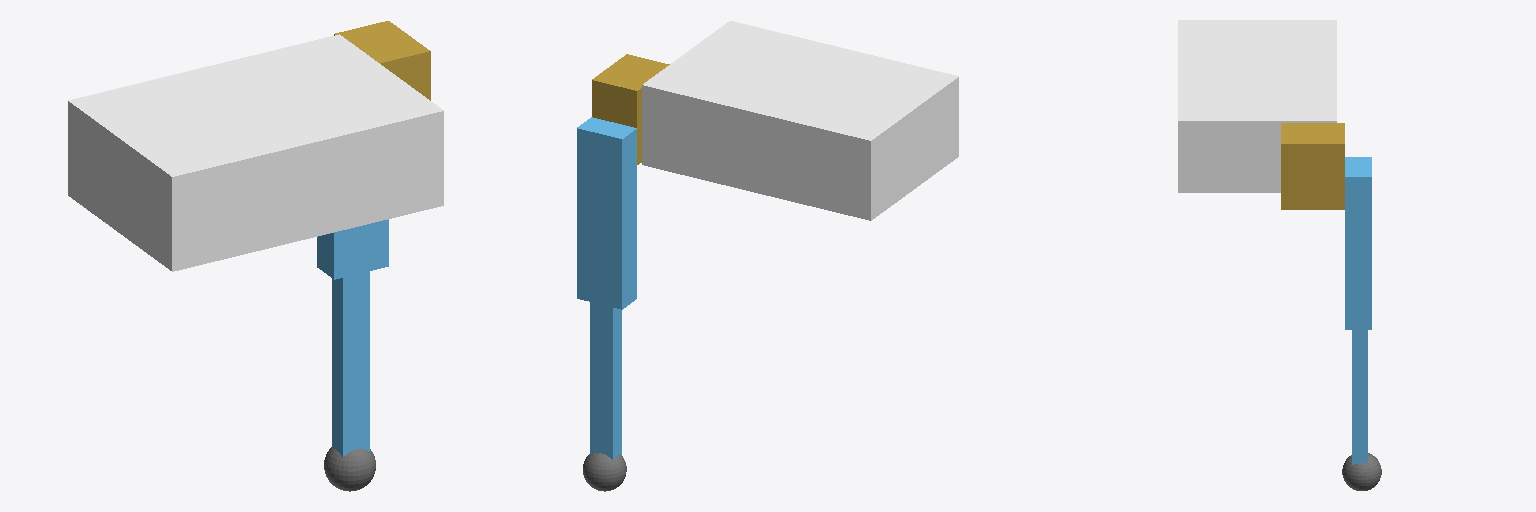
URDF robot description (leg):
<?xml version="1.0" ?>


<robot name="leg" xmlns:xacro="http://www.ros.org/wiki/xacro">


    <gazebo>
        <plugin filename="libgazebo_ros_control.so" name="gazebo_ros_control">
            <robotNamespace>/leg</robotNamespace>
            <robotSimType>
                gazebo_ros_control/DefaultRobotHWSim
            </robotSimType>
        </plugin>
    </gazebo>


    <material name="black">
        <color rgba="0.0 0.0 0.0 1.0"/>
    </material>
    <material name="blue">
        <color rgba="0.0 0.0 0.8 1.0"/>
    </material>
    <material name="green">
        <color rgba="0.0 0.8 0.0 1.0"/>
    </material>
    <material name="grey">
        <color rgba="0.2 0.2 0.2 1.0"/>
    </material>
    <material name="silver">
        <color rgba="0.913725490196 0.913725490196 0.847058823529 1.0"/>
    </material>
    <material name="orange">
        <color rgba="1.0 0.423529411765 0.0392156862745 1.0"/>
    </material>
    <material name="brown">
        <color rgba="0.870588235294 0.811764705882 0.764705882353 1.0"/>
    </material>
    <material name="white_gray">
        <color rgba="0.823529411765 0.823529411765 0.823529411765 1.0"/>
    </material>
    <material name="gold">
        <color rgba="0.811764705882 0.678431372549 0.301960784314 1.0"/>
    </material>
    <material name="white_blue">
        <color rgba="0.462745098039 0.8 0.992156862745 1.0"/>
    </material>
    <material name="white_black">
        <color rgba="0.494117647059 0.494117647059 0.494117647059 1.0"/>
    </material>
    <material name="red">
        <color rgba="0.8 0.0 0.0 1.0"/>
    </material>
    <material name="white">
        <color rgba="1.0 1.0 1.0 1.0"/>
    </material>

    <gazebo refrence="trunk">
        <mu1>0.9</mu1>
        <mu2>0.9</mu2>
        <material>Gazebo/DarkGrey</material>
    </gazebo>

    <gazebo refrence="jump">
        <mu1>0.9</mu1>
        <mu2>0.9</mu2>
        <material>Gazebo/DarkGrey</material>
    </gazebo>

    <gazebo reference="hip">
        <mu1>0.9</mu1>
        <mu2>0.9</mu2>
        <material>Gazebo/Orange</material>
  </gazebo>
  <gazebo reference="thigh">
        <mu1>0.9</mu1>
        <mu2>0.9</mu2>
        <self_collide>1</self_collide>
        <material>Gazebo/White</material>
        <kp value="1000000.0"/>
        <kd value="1.0"/>
  </gazebo>
  <gazebo reference="calf">
        <mu1>0.9</mu1>
        <mu2>0.9</mu2>
        <self_collide>1</self_collide>
      <material>Gazebo/DarkGray</material>
  </gazebo>
  <gazebo reference="foot">
        <mu1>0.9</mu1>
        <mu2>0.9</mu2>
        <self_collide>1</self_collide>
        <material>Gazebo/DarkGray</material>
        <kp value="1000000.0"/>
        <kd value="1.0"/>
  </gazebo>

    <link name="world"/>
    <gazebo reference="world">
        <static>true</static>
    </gazebo>

    <link name="trunk">
        <visual>
        <origin rpy="0 0 0" xyz="0 0 0.05"/>
        <geometry>
            <box size="0.3 0.2 0.1"/>
        </geometry>
        <material name="white"/>
        </visual>
        <collision>
            <origin rpy="0 0 0" xyz="0 0 0.75"/>
            <geometry>
                <box size="0.3 0.2 0.1"/>
            </geometry>
        </collision>
        <inertial>
            <origin rpy="0 0 0" xyz="0 0 0.05"/>
            <mass value="100"/>
            <inertia ixx="0.011253" ixy="0" ixz="0.0" iyy="0.036203" iyz="-0.0" izz="0.042673"/>
            </inertial>
        </link>

    <joint name="trunk_to_world" type="fixed">
        <origin rpy="0 0 0" xyz="0 0 0"/>
        <parent link="world"/>
        <child link="trunk"/>
    </joint>

<!--    <joint name="jumper" type="prismatic">-->
<!--        <parent link="trunk"/>-->
<!--        <axis xyz="0 0 1"/>-->
<!--        <child link="jump"/>-->
<!--        <limit effort="20" lower="-0.2" upper="0.5" velocity="0.5"/>-->
<!--        <origin rpy="0 0 0" xyz="0.15 0.07 0.9"/>-->
<!--        <dynamics damping="0.1" friction="1"/>-->
<!--    </joint>-->


<!--    <link name="jump">-->
<!--        <visual>-->
<!--            <origin rpy="3.14159265359 0 0" xyz="0.01 0 0"/>-->
<!--            <geometry>-->
<!--                <box size="0.02 0.08 0.093"/>-->
<!--            </geometry>-->
<!--            <material name="black"/>-->
<!--        </visual>-->
<!--        <collision>-->
<!--            <origin rpy="3.14159265359 0 0" xyz="0.01 0 0"/>-->
<!--            <geometry>-->
<!--                <box size="0.02 0.08 0.093"/>-->
<!--            </geometry>-->
<!--        </collision>-->
<!--        <inertial>-->
<!--            <origin rpy="0 0 0" xyz="0.01 0 0"/>-->
<!--            <mass value="0.002"/>-->
<!--            <inertia ixx="0.0007148275" ixy="0.0" ixz="0.0" iyy="0.0007955775" iyz="0.0" izz="0.00068875"/>-->
<!--        </inertial>-->
<!--    </link>-->

    <joint name="hip_joint" type="revolute">
        <origin rpy="0 0 0" xyz="0.15 0.07 0.05"/>
        <parent link="trunk"/>
        <child link="hip"/>
        <axis xyz="1 0 0"/>
        <dynamics damping="0.1" friction="0.1"/>
        <limit effort="20" lower="-0.872664625997" upper="1.0471975512" velocity="1.6"/>
  </joint>

  <link name="hip">
    <visual>
      <origin rpy="0 0 0" xyz="0.03 0 0"/>
      <geometry>
        <box size="0.06 0.08 0.093"/>
      </geometry>
      <material name="gold"/>
    </visual>
    <collision>
      <origin rpy="0 0 0" xyz="0.03 0 0"/>
      <geometry>
        <box size="0.06 0.08 0.093"/>
      </geometry>
    </collision>
    <inertial>
      <origin rpy="0 0 0" xyz="0.03 0 0.0"/>
      <mass value="0.63"/>
      <inertia ixx="0.0007148275" ixy="0.0" ixz="0.0" iyy="0.0007955775" iyz="0.0" izz="0.00068875"/>
    </inertial>

  </link>
    <joint name="thigh_joint" type="revolute">
    <origin rpy="0 0 0" xyz="0.03 0.04 0"/>
    <parent link="hip"/>
    <child link="thigh"/>
    <axis xyz="0 1 0"/>
    <dynamics damping="0.1" friction="0.1" />
    <limit effort="20" lower="-0.523598775598" upper="3.92699081699" velocity="1.6"/>
  </joint>

  <link name="thigh">
    <visual>
      <origin rpy="3.14159265359 3.14159265359 0" xyz="0 0.017 -0.10655"/>
      <geometry>
        <box size="0.06 0.034 0.2131"/>
      </geometry>
      <material name="white_blue"/>
    </visual>
    <collision>
      <origin rpy="3.14159265359 3.14159265359 0" xyz="0 0.017 -0.10655"/>
      <geometry>
        <box size="0.06 0.034 0.2131"/>
      </geometry>
      <material name="white_blue"/>
    </collision>
    <inertial>
      <origin rpy="0 0 0" xyz="0.0 0.021 -0.10655"/>
      <mass value="1.062"/>
      <inertia ixx="0.00261820866667" ixy="0.0" ixz="0.0" iyy="0.00265482216667" iyz="0.0" izz="0.000158764166667"/>
    </inertial>
  </link>
  <!-- //////////////////////calf//////////////////// -->
  <joint name="calf_joint" type="revolute">
    <origin rpy="0 0 0" xyz="0 0.01 -0.2131"/>
<!--    <origin rpy="0 0 0" xyz="0 0.01 -0.1881"/>-->
    <parent link="thigh"/>
    <child link="calf"/>
    <axis xyz="0 1 0"/>
    <dynamics damping="0.1" friction="0.1"/>
    <limit effort="20" lower="-3.14159265359" upper="3.14159265359" velocity="1.6"/>
  </joint>
  <link name="calf">
    <visual>
      <origin rpy="0 0 0" xyz="0.0 0.01 -0.10574"/>
      <geometry>
        <box size="0.03 0.02 0.21148"/>
          <!--mesh filename="package://first_leg/mesh/calf.dae" scale="1 1 1"/-->
      </geometry>
      <material name="white_blue"/>
    </visual>
    <collision>
      <origin rpy="0 0 0" xyz="0.0 0.01 -0.10574"/>
      <geometry>
          <box size="0.03 0.02 0.21148"/>
        <!--mesh filename="package://first_leg/mesh/Sim_0_00_04.STL" scale="1 1 1"/-->
      </geometry>
    </collision>
    <inertial>
      <origin rpy="0 0 0" xyz="0.0 0.0 -0.10574"/>
      <mass value="0.133"/>
      <inertia ixx="0.000214698666667" ixy="0.0" ixz="0.0" iyy="0.000214698666667" iyz="0.0" izz="2.73066666667e-06"/>
    </inertial>
  </link>
  <!-- //////////////////////foot//////////////////// -->
  <joint name="foot_fixed" type="fixed">
    <origin rpy="0 0 0" xyz="0 0.01 -0.21148"/>
<!--    <origin rpy="0 0 0" xyz="0 0.01 -0.1881"/>-->
    <parent link="calf"/>
    <child link="foot"/>
    <axis xyz="0 1 0"/>
    <dynamics damping="0.1" friction="0.1"/>
    <limit effort="20" lower="-3.14159265359" upper="3.14159265359" velocity="10.6"/>
  </joint>

  <link name="foot">
    <visual>
      <origin rpy="0 0 0" xyz="0 0.002 0"/>
      <geometry>
        <sphere radius="0.025"/>
      </geometry>
      <material name="white_black"/>
    </visual>
    <collision>
      <origin rpy="0 0 0" xyz="0 0.002 0"/>
      <geometry>
        <sphere radius="0.025"/>
      </geometry>
    </collision>
    <inertial>
      <origin rpy="0 0 0" xyz="0 0.002 0"/>
      <mass value="0.05"/>
      <inertia ixx="4.2135e-05" ixy="0.0" ixz="0.0" iyy="4.2135e-05" iyz="0.0" izz="4.2135e-05"/>
    </inertial>
  </link>

  <!--/////////////// transmission tags ////////////////////// -->

<!--    <transmission name="jump_trans">-->
<!--    <type>transmission_interface/SimpleTransmission</type>-->
<!--    <joint name="jumper">-->
<!--      <hardwareInterface>hardware_interface/EffortJointInterface</hardwareInterface>-->
<!--    </joint>-->
<!--    <actuator name="jump_motor">-->
<!--      <hardwareInterface>hardware_interface/EffortJointInterface</hardwareInterface>-->
<!--      <mechanicalReduction>1</mechanicalReduction>-->
<!--    </actuator>-->
<!--  </transmission>-->
  <transmission name="hip_tran">
    <type>transmission_interface/SimpleTransmission</type>
    <joint name="hip_joint">
      <hardwareInterface>hardware_interface/EffortJointInterface</hardwareInterface>
    </joint>
    <actuator name="hip_motor">
      <hardwareInterface>hardware_interface/EffortJointInterface</hardwareInterface>
      <mechanicalReduction>1</mechanicalReduction>
    </actuator>
  </transmission>
  <transmission name="thigh_tran">
    <type>transmission_interface/SimpleTransmission</type>
    <joint name="thigh_joint">
      <hardwareInterface>hardware_interface/EffortJointInterface</hardwareInterface>
    </joint>
    <actuator name="thigh_motor">
      <hardwareInterface>hardware_interface/EffortJointInterface</hardwareInterface>
      <mechanicalReduction>1</mechanicalReduction>
    </actuator>
  </transmission>
  <transmission name="calf_tran">
    <type>transmission_interface/SimpleTransmission</type>
    <joint name="calf_joint">
      <hardwareInterface>hardware_interface/EffortJointInterface</hardwareInterface>
    </joint>
    <actuator name="calf_motor">
      <hardwareInterface>hardware_interface/EffortJointInterface</hardwareInterface>
      <mechanicalReduction>1</mechanicalReduction>
    </actuator>
  </transmission>
</robot>

--- Render facts (derived) ---
Views: 3 orthographic renders of the robot side by side, from view 1: azimuth 30°, elevation 25°; view 2: azimuth 150°, elevation 25°; view 3: azimuth 270°, elevation 25°.
Model leg with 6 links and 5 joints (3 revolute, 2 fixed), rooted at world, posed every joint at zero.
Links seen in each view (by area): view 1: trunk, calf, hip, thigh, foot; view 2: trunk, thigh, calf, hip, foot; view 3: trunk, hip, thigh, calf, foot.
Link boxes in pixels (x1,y1,x2,y2): trunk: (68, 34, 443, 271); calf: (332, 271, 369, 457); hip: (334, 21, 430, 100); thigh: (317, 219, 388, 279); foot: (324, 447, 375, 491); trunk: (642, 21, 958, 220); thigh: (577, 117, 636, 309); calf: (590, 302, 621, 459); hip: (592, 54, 669, 164); foot: (583, 453, 626, 491); trunk: (1178, 20, 1336, 192); hip: (1281, 123, 1344, 209); thigh: (1345, 157, 1371, 329); calf: (1352, 330, 1367, 464); foot: (1342, 453, 1381, 490).
Bounding box of the posed robot: 0.36 × 0.257 × 0.4996 m (x, y, z).
Geometry: primitives only (box / cylinder / sphere), no mesh files.